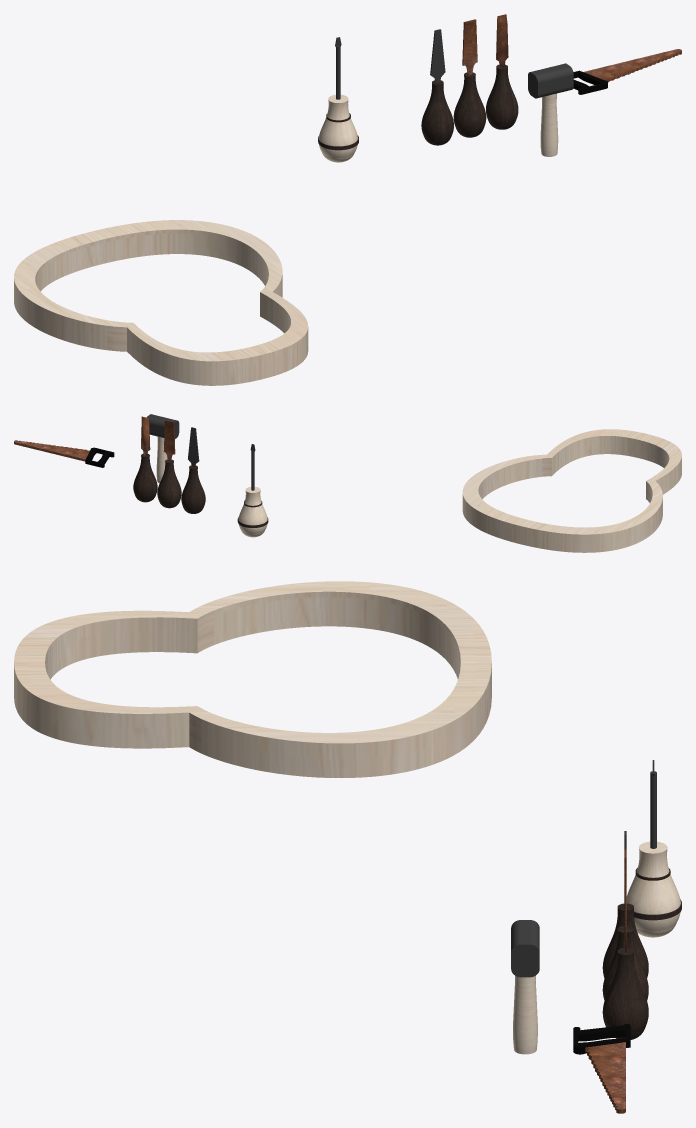
File: utensili(2).fbx
3 views of the same model, one above another, from view 1: azimuth 30°, elevation 25°; view 2: azimuth 150°, elevation 25°; view 3: azimuth 270°, elevation 25° (orthographic). The views are drawn at different scales.
Parts seen in each view (by area): view 1: bordo_chitarra, vite, martello, lama.002, lama, lama.001, sega; view 2: bordo_chitarra, vite, lama.002, lama, lama.001, sega, martello; view 3: bordo_chitarra, vite, martello, sega, lama.001, lama.002, lama.
Boxes of the visible parts, bbox=[...] form: bordo_chitarra: bbox=[14, 220, 308, 385]; vite: bbox=[318, 37, 358, 162]; martello: bbox=[528, 63, 573, 156]; lama.002: bbox=[453, 19, 486, 137]; lama: bbox=[421, 29, 453, 145]; lama.001: bbox=[486, 14, 518, 129]; sega: bbox=[573, 49, 681, 94]; bordo_chitarra: bbox=[462, 429, 681, 552]; vite: bbox=[237, 444, 268, 537]; lama.002: bbox=[157, 420, 181, 508]; lama: bbox=[181, 427, 205, 513]; lama.001: bbox=[133, 416, 157, 502]; sega: bbox=[14, 440, 114, 467]; martello: bbox=[146, 414, 179, 483]; bordo_chitarra: bbox=[14, 581, 491, 777]; vite: bbox=[626, 760, 681, 937]; martello: bbox=[511, 920, 539, 1054]; sega: bbox=[573, 1024, 630, 1113]; lama.001: bbox=[602, 877, 648, 1039]; lama.002: bbox=[602, 849, 648, 1000]; lama: bbox=[602, 831, 648, 978].
Bounding box in the file's own units: 2568 × 402 × 1398.
